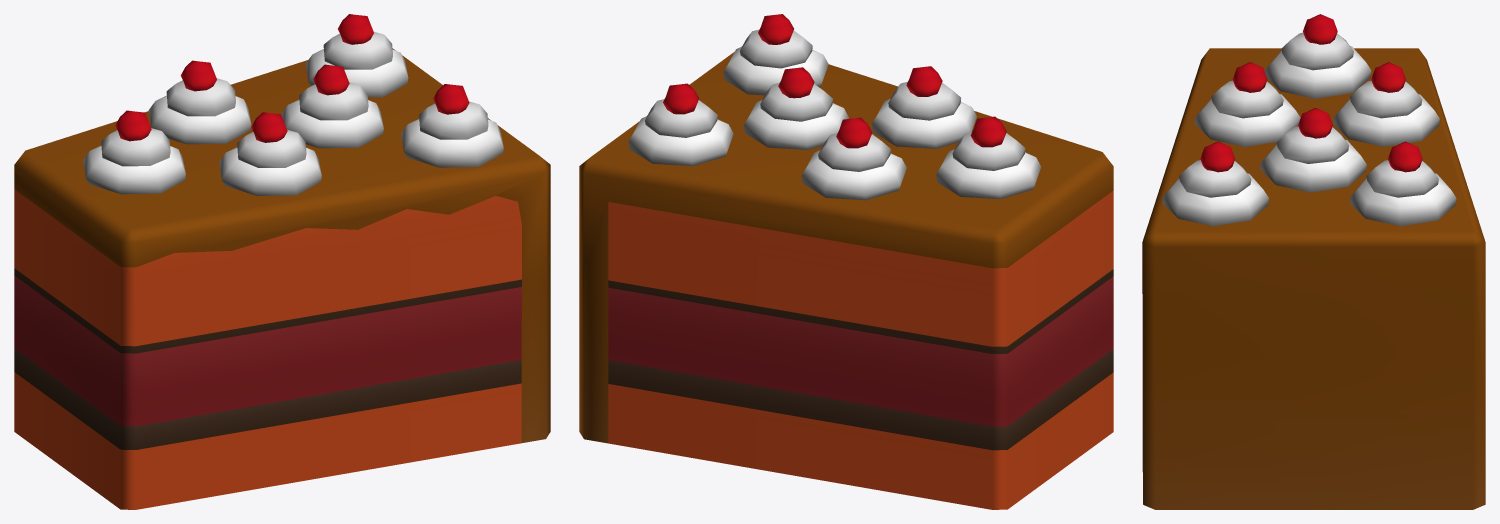
The model's file is Product Classic Cake.fbx.
The picture shows the model from 3 angles, left to right: view 1: azimuth 30°, elevation 25°; view 2: azimuth 150°, elevation 25°; view 3: azimuth 270°, elevation 25°; orthographic projection.
Parts seen in each view (by area): view 1: Product_Classic_Cake; view 2: Product_Classic_Cake; view 3: Product_Classic_Cake.
Part boxes in pixels (bbox=[...]): Product_Classic_Cake: bbox=[14, 14, 550, 509]; Product_Classic_Cake: bbox=[579, 14, 1113, 509]; Product_Classic_Cake: bbox=[1142, 14, 1485, 509].
Bounding box in the file's own units: 120 × 96.63 × 89.84.
